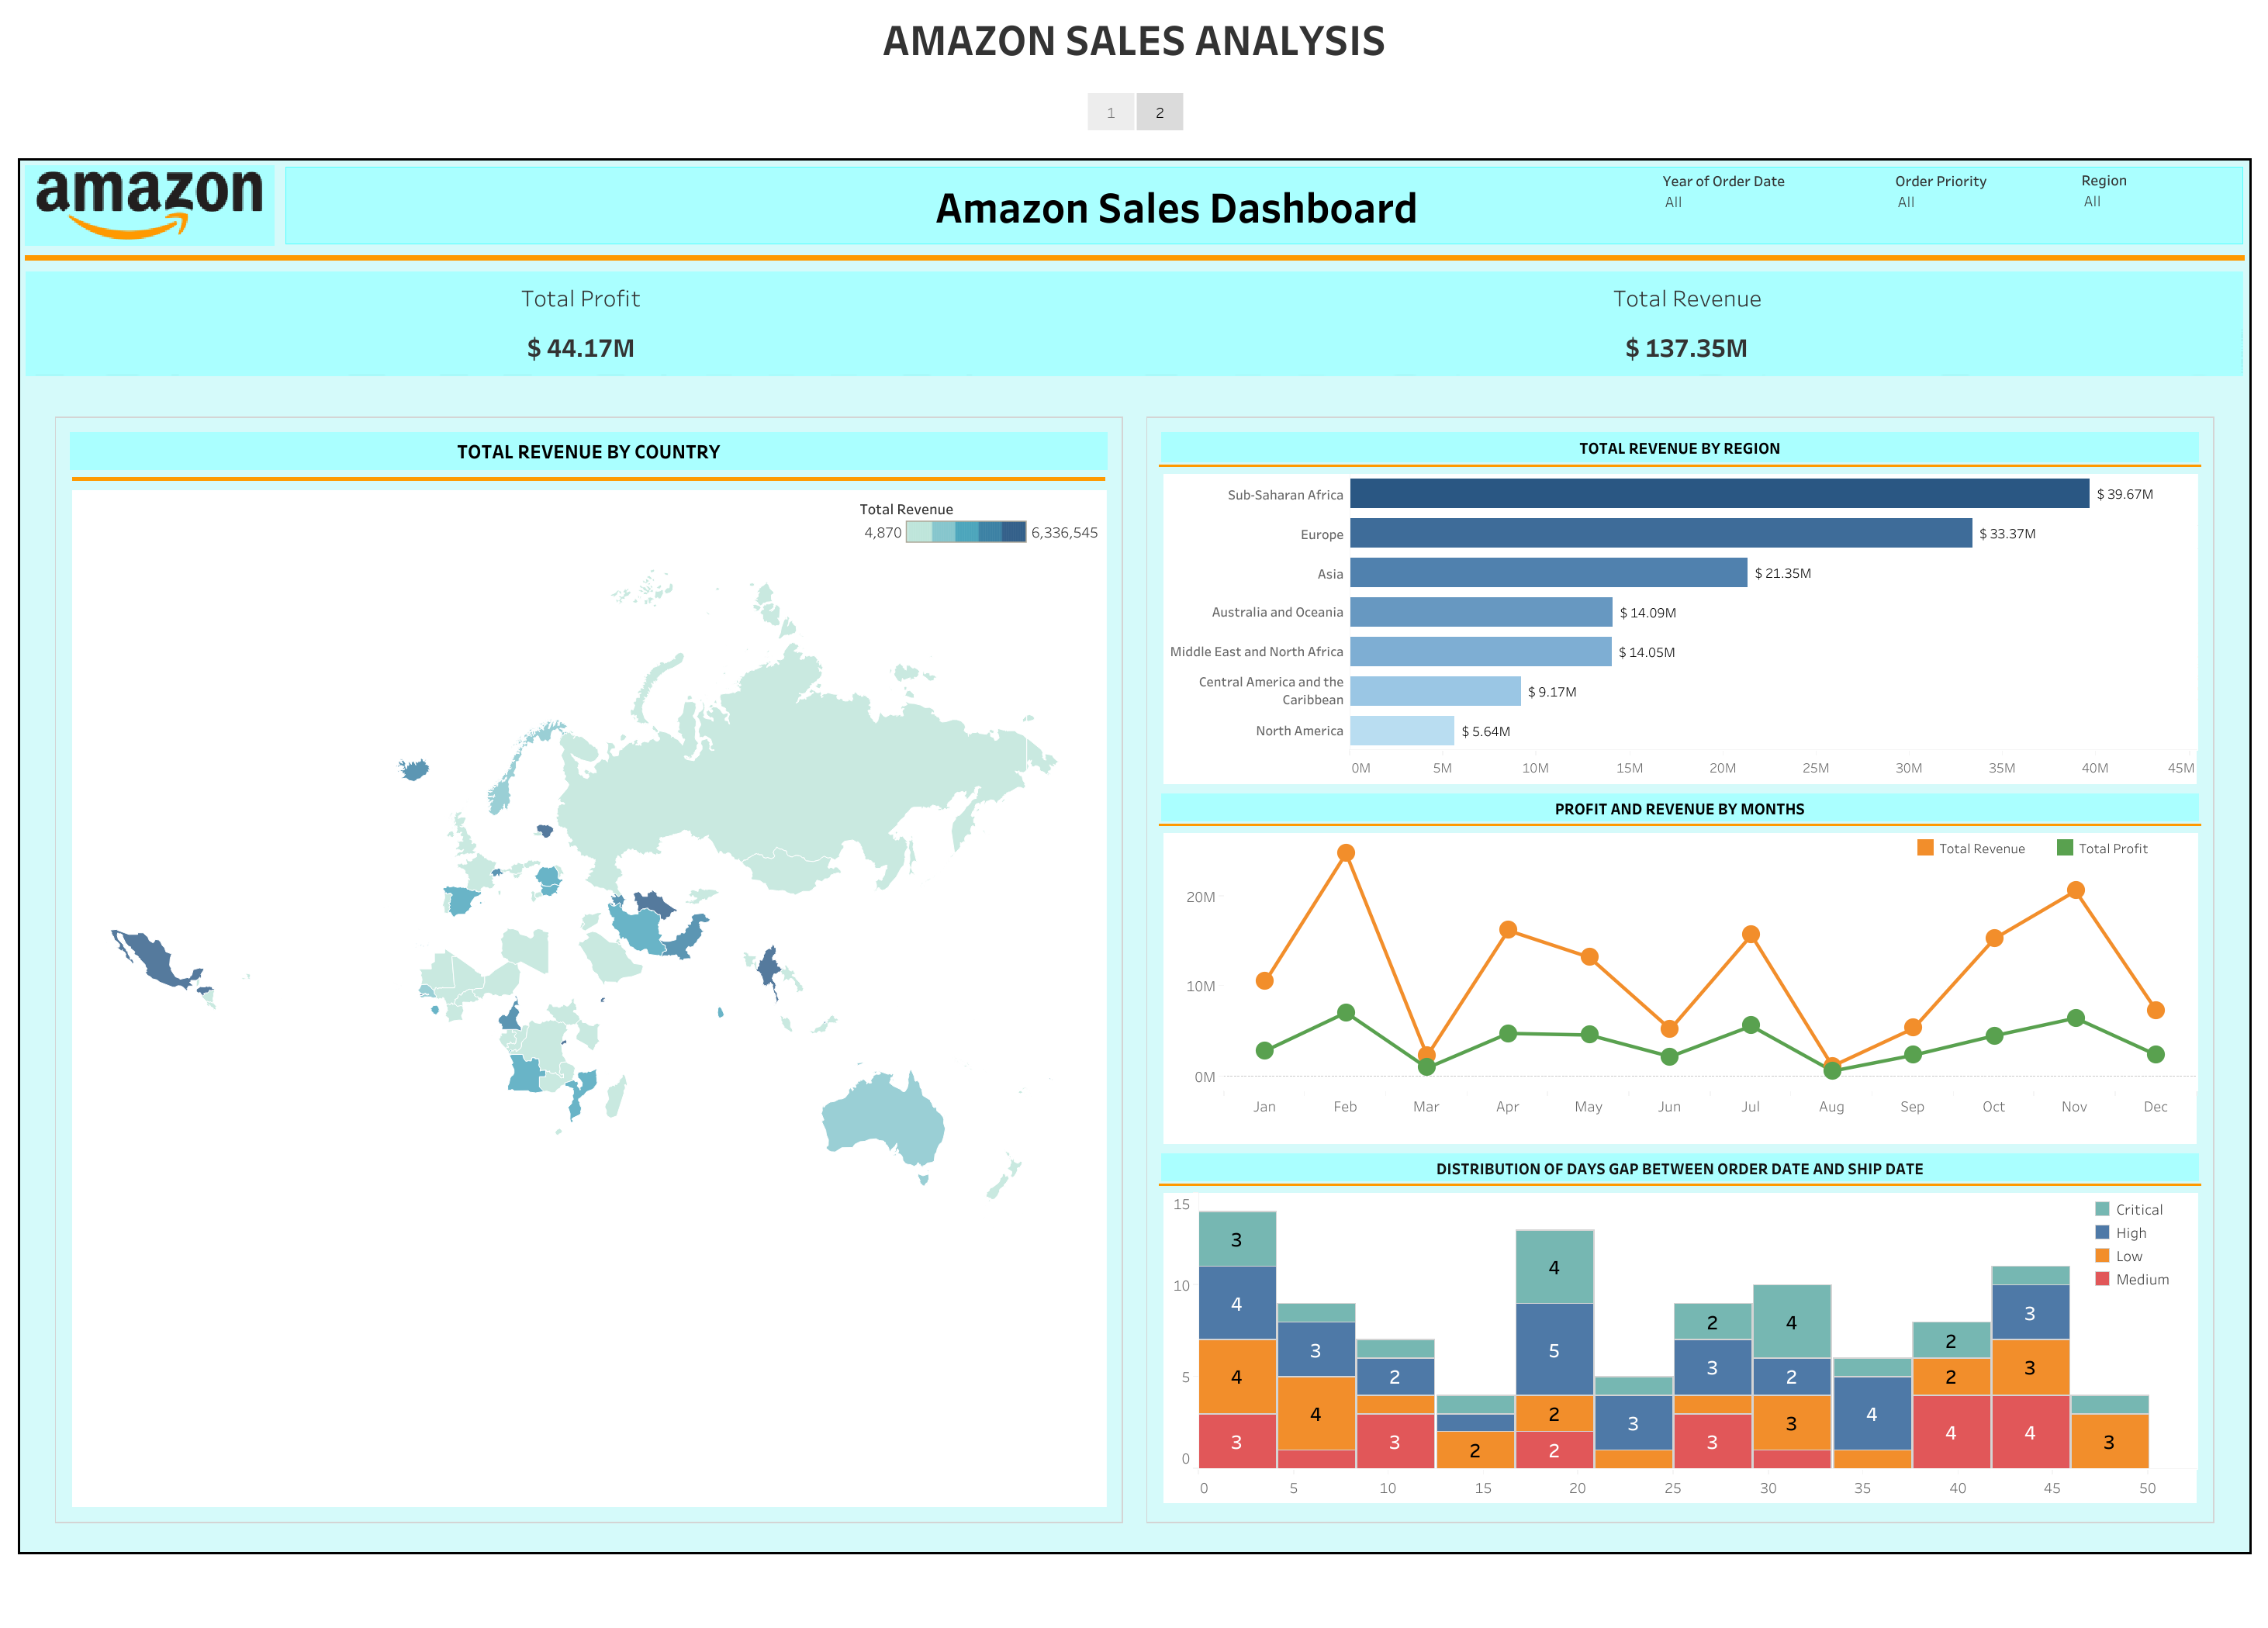

Layout of this report page (visuals, bound fields, positions):
{"tool":"tableau","page":{"name":"Dashboard-2","canvas":[1000,1000],"units":"permille","ordinal":1},"visuals":[{"type":"image","param":"Image/amazon_PNG24.png","box":[1,1.7,116.2,64.2]},{"type":"text","box":[117.2,1.7,881.8,64.2]},{"type":"filter","title":"Total Revenue by Country","param":"[federated.0d40bbk0vfqowo1016te00dxnks6].[none:Region:nk]","box":[924,6.7,72.4,54.2]},{"type":"filter","title":"Profit vs Revenue by Month","param":"[federated.0d40bbk0vfqowo1016te00dxnks6].[yr:Order Date:ok]","box":[736.5,7.5,97.9,50.8]},{"type":"filter","title":"Order Date vs Ship date","param":"[federated.0d40bbk0vfqowo1016te00dxnks6].[none:Order Priority:nk]","box":[840.6,7.5,79.2,50]},{"type":"blank","box":[1,65.8,997.9,10.8]},{"type":"worksheet","title":"KPIs-2","mark":"Automatic","box":[1,76.7,997.9,83.3]},{"type":"text","box":[22.4,194.2,466.7,30.8]},{"type":"text","box":[510.9,194.2,466.7,25]},{"type":"blank","box":[510.9,219.2,466.7,3.3]},{"type":"worksheet","title":"Revenue by Region","mark":"Automatic","rows":["Region"],"cols":["Total Revenue"],"box":[510.9,222.5,466.7,229.2]},{"type":"blank","box":[22.4,225,466.7,9.2]},{"type":"worksheet","title":"Total Revenue by Country","mark":"Automatic","box":[22.4,234.2,466.7,734.2]},{"type":"legend","title":"Total Revenue by Country","param":"[federated.0d40bbk0vfqowo1016te00dxnks6].[sum:Total Revenue:qk]","box":[377.1,240,109.4,74.2]},{"type":"text","box":[510.9,451.7,466.7,25]},{"type":"blank","box":[510.9,476.7,466.7,3.3]},{"type":"worksheet","title":"Profit vs Revenue by Month","mark":"Automatic","cols":["Order Date"],"box":[510.9,480,466.7,229.2]},{"type":"legend","title":"Profit vs Revenue by Month","param":"[federated.0d40bbk0vfqowo1016te00dxnks6].[:Measure Names]","box":[849,485,127.1,26.7]},{"type":"text","box":[510.9,709.2,466.7,25]},{"type":"blank","box":[510.9,734.2,466.7,3.3]},{"type":"worksheet","title":"Order Date vs Ship date","mark":"Automatic","rows":["Days Gap"],"cols":["Days Gap (bin)"],"box":[510.9,737.5,466.7,229.2]},{"type":"legend","title":"Order Date vs Ship date","param":"[federated.0d40bbk0vfqowo1016te00dxnks6].[none:Order Priority:nk]","box":[928.1,744.2,48.4,85.8]}]}

Visuals, with their boxes on the dashboard's canvas, which has no fixed pixel size, in thousandths of its width and height (x1, y1, x2, y2). These are canvas units, not pixel positions in the 2268x1628 screenshot, which may show the page scaled, cropped or inside an application window:
image: box=[1, 2, 117, 66]
text: box=[117, 2, 999, 66]
"Total Revenue by Country" filter: box=[924, 7, 996, 61]
"Profit vs Revenue by Month" filter: box=[736, 8, 834, 58]
"Order Date vs Ship date" filter: box=[841, 8, 920, 58]
blank: box=[1, 66, 999, 77]
"KPIs-2" worksheet: box=[1, 77, 999, 160]
text: box=[22, 194, 489, 225]
text: box=[511, 194, 978, 219]
blank: box=[511, 219, 978, 222]
"Revenue by Region" worksheet: box=[511, 222, 978, 452]
blank: box=[22, 225, 489, 234]
"Total Revenue by Country" worksheet: box=[22, 234, 489, 968]
"Total Revenue by Country" legend: box=[377, 240, 486, 314]
text: box=[511, 452, 978, 477]
blank: box=[511, 477, 978, 480]
"Profit vs Revenue by Month" worksheet: box=[511, 480, 978, 709]
"Profit vs Revenue by Month" legend: box=[849, 485, 976, 512]
text: box=[511, 709, 978, 734]
blank: box=[511, 734, 978, 738]
"Order Date vs Ship date" worksheet: box=[511, 738, 978, 967]
"Order Date vs Ship date" legend: box=[928, 744, 976, 830]
